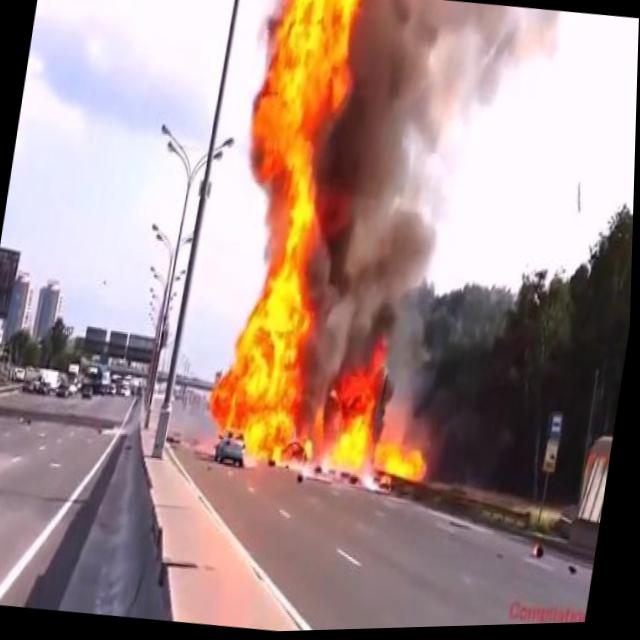fire: (194, 0, 382, 472), (311, 324, 451, 504)
